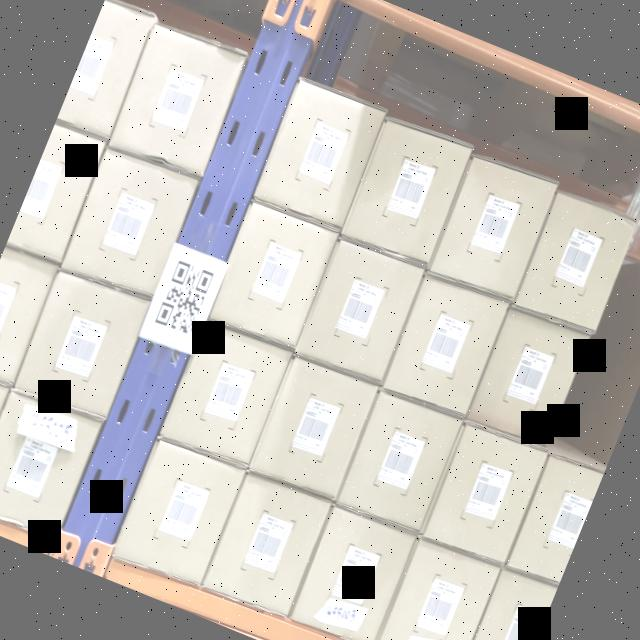box: (60, 150, 195, 298), (15, 269, 148, 419), (110, 27, 242, 174), (256, 81, 386, 228), (208, 202, 336, 349), (342, 120, 471, 265), (118, 441, 242, 582), (205, 474, 328, 616), (338, 390, 462, 530), (298, 240, 422, 380), (162, 326, 286, 464), (514, 195, 636, 334), (384, 276, 505, 412), (291, 506, 413, 640), (434, 161, 553, 297), (425, 428, 543, 564), (256, 360, 376, 492), (470, 310, 586, 442), (0, 393, 98, 536), (380, 542, 499, 640)
